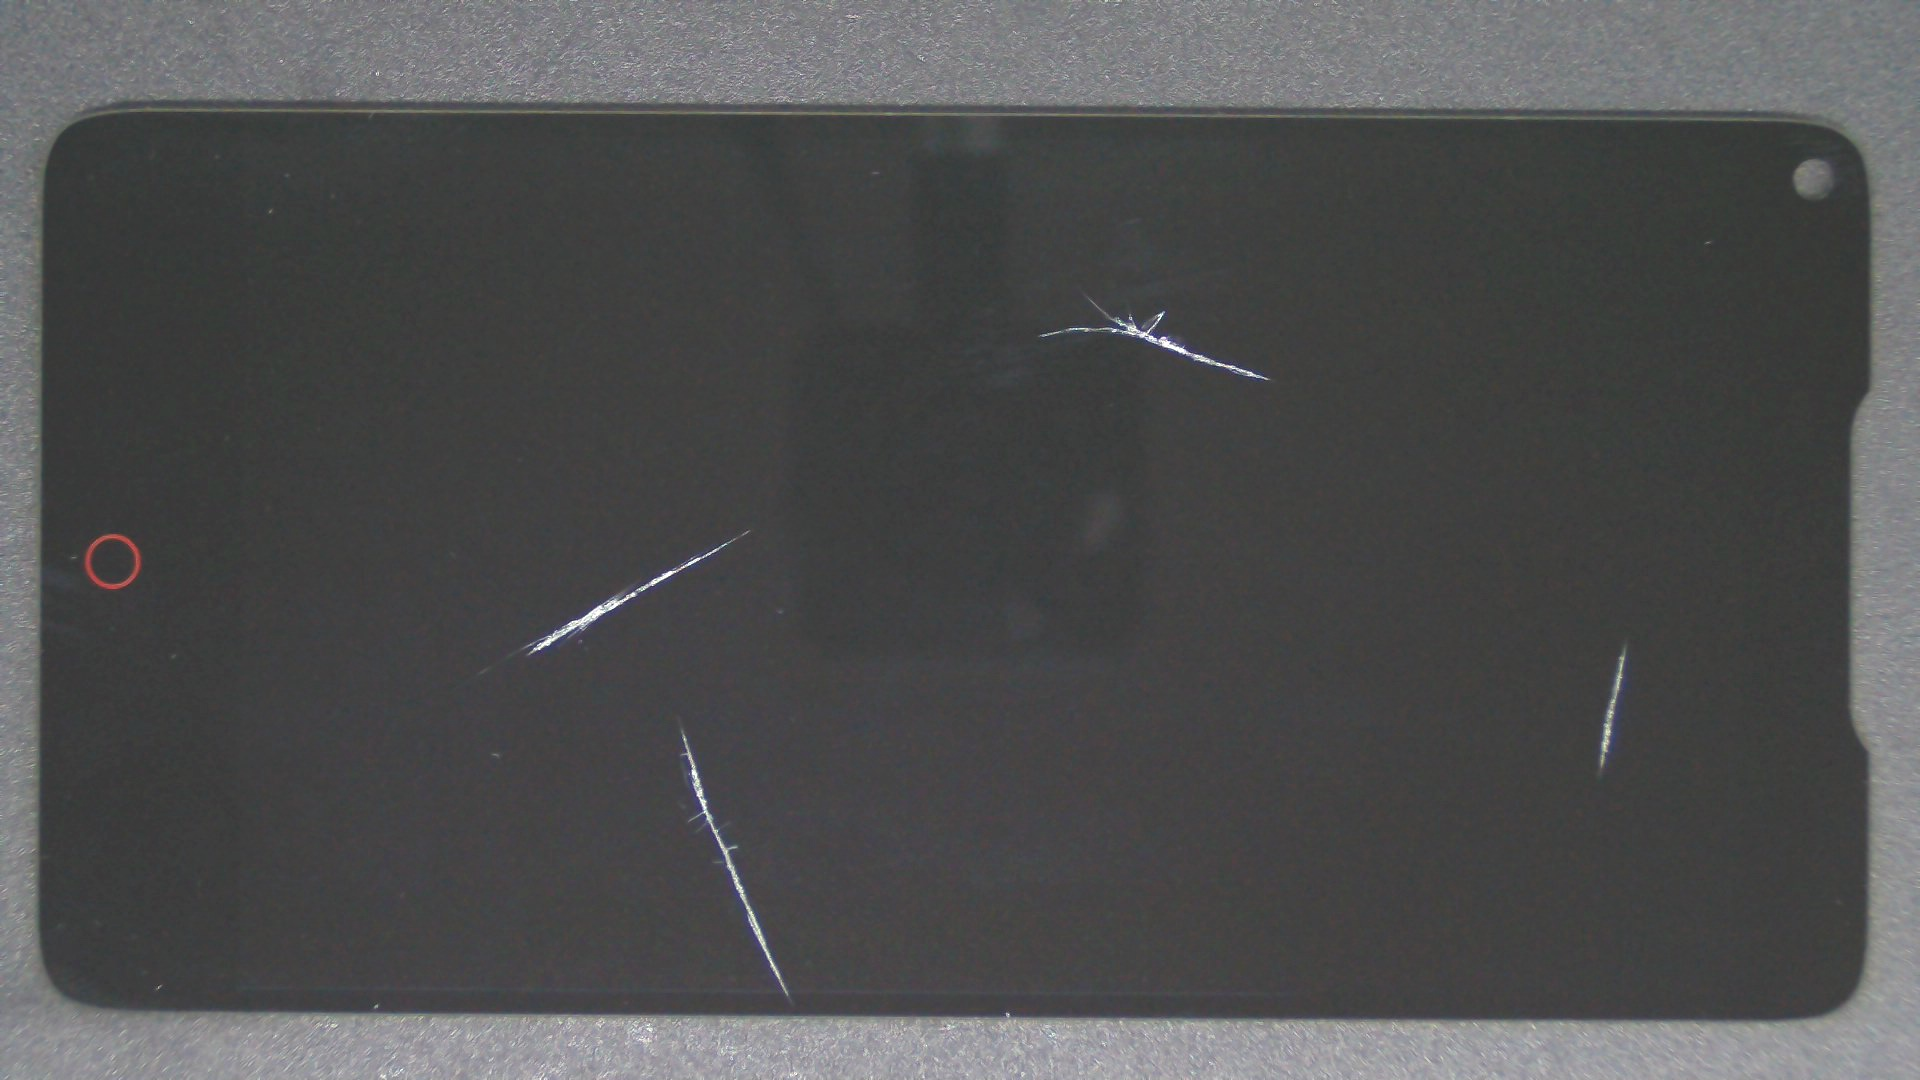oil: (811, 322, 1920, 971), (340, 361, 1021, 1080), (375, 264, 1121, 794), (545, 146, 1631, 442)
